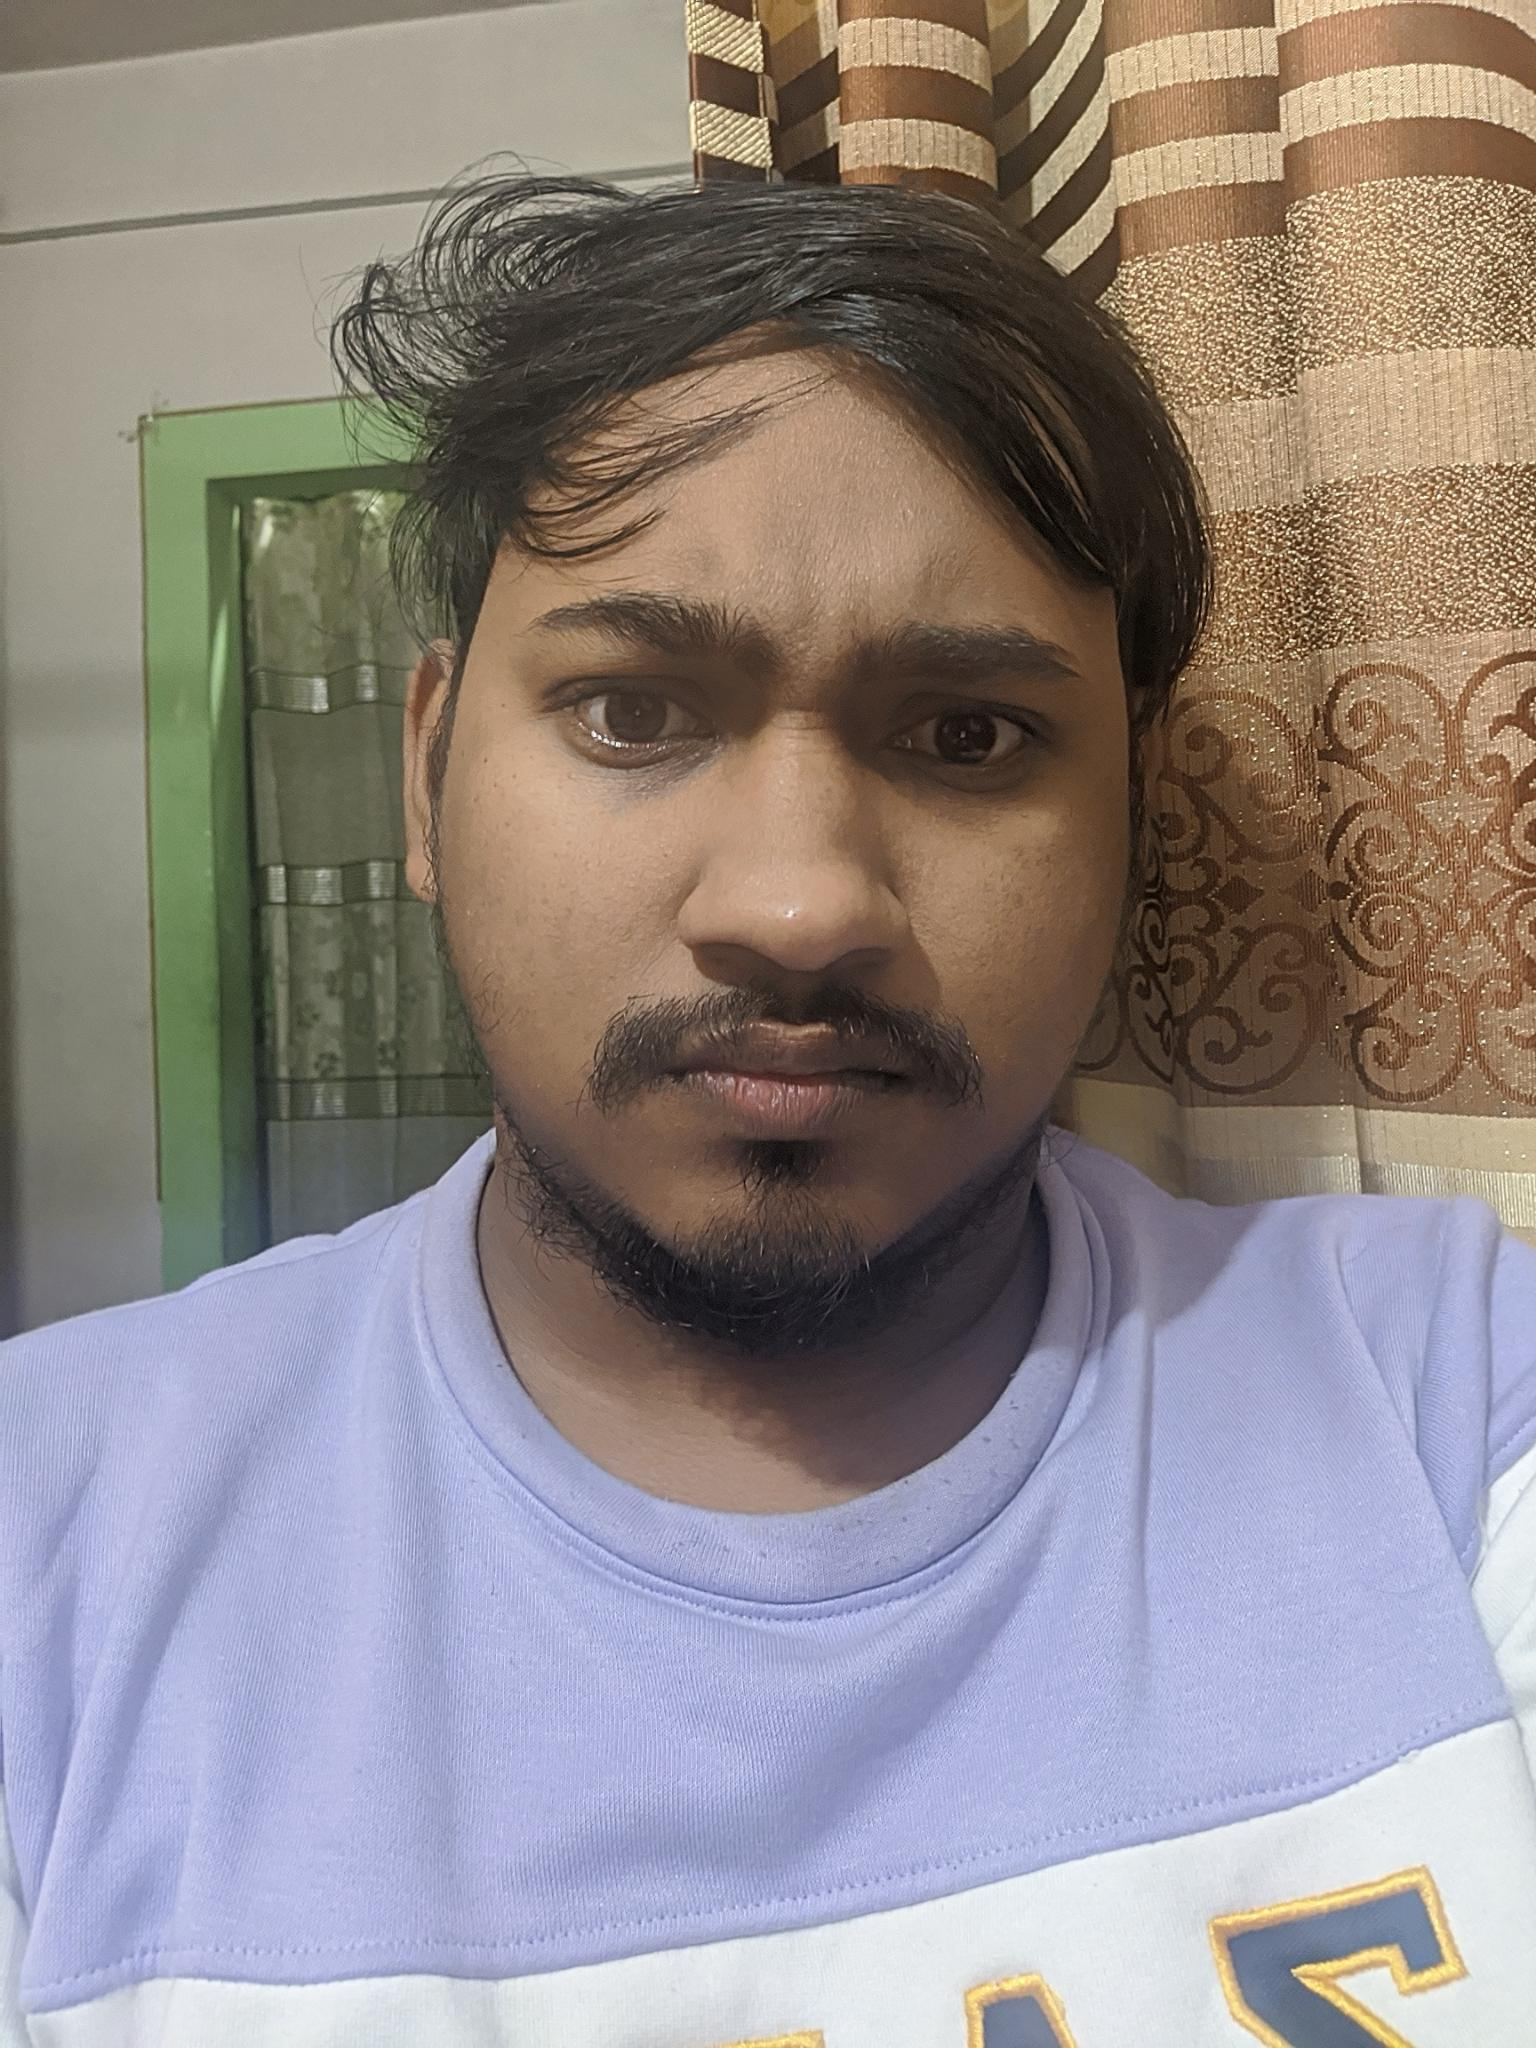Angry: (442, 481, 1141, 1301)
